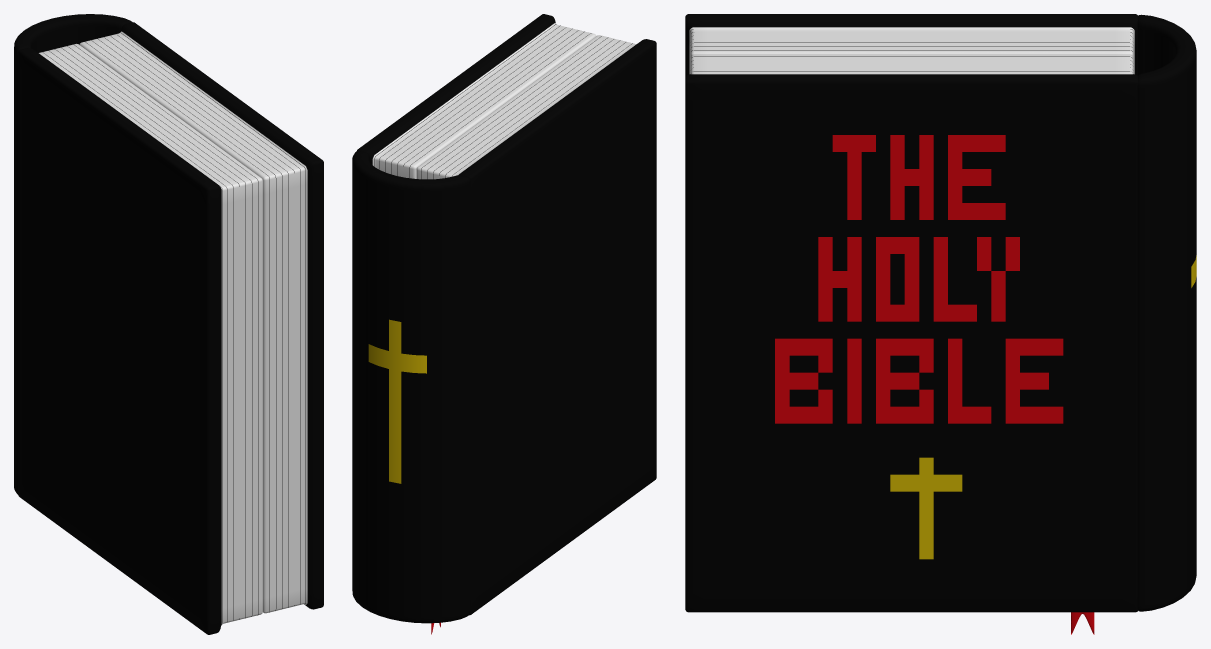
Rendered from HolyBible.fbx.
3 views of the same model, side by side, from view 1: azimuth 30°, elevation 25°; view 2: azimuth 150°, elevation 25°; view 3: azimuth 270°, elevation 25° (orthographic). The views are drawn at different scales.
Parts seen in each view (by area): view 1: Cube.006, Cube.005, Cylinder.008; view 2: Cube.006, Cylinder.008, Cube.005; view 3: Cube.005, Cylinder.008, Cube.006.
Part boxes in pixels (<box>): Cube.006: <box>18,43,262,634</box>; Cube.005: <box>79,22,323,613</box>; Cylinder.008: <box>14,14,132,494</box>; Cube.006: <box>416,35,656,615</box>; Cylinder.008: <box>352,150,470,623</box>; Cube.005: <box>357,14,596,634</box>; Cube.005: <box>685,54,1137,634</box>; Cylinder.008: <box>1137,14,1196,611</box>; Cube.006: <box>685,14,1137,76</box>.
Bounding box in the file's own units: 9.97 × 40.16 × 31.65.
